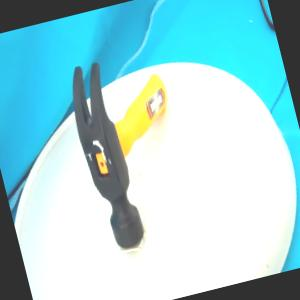martelo: (61, 44, 201, 253)
